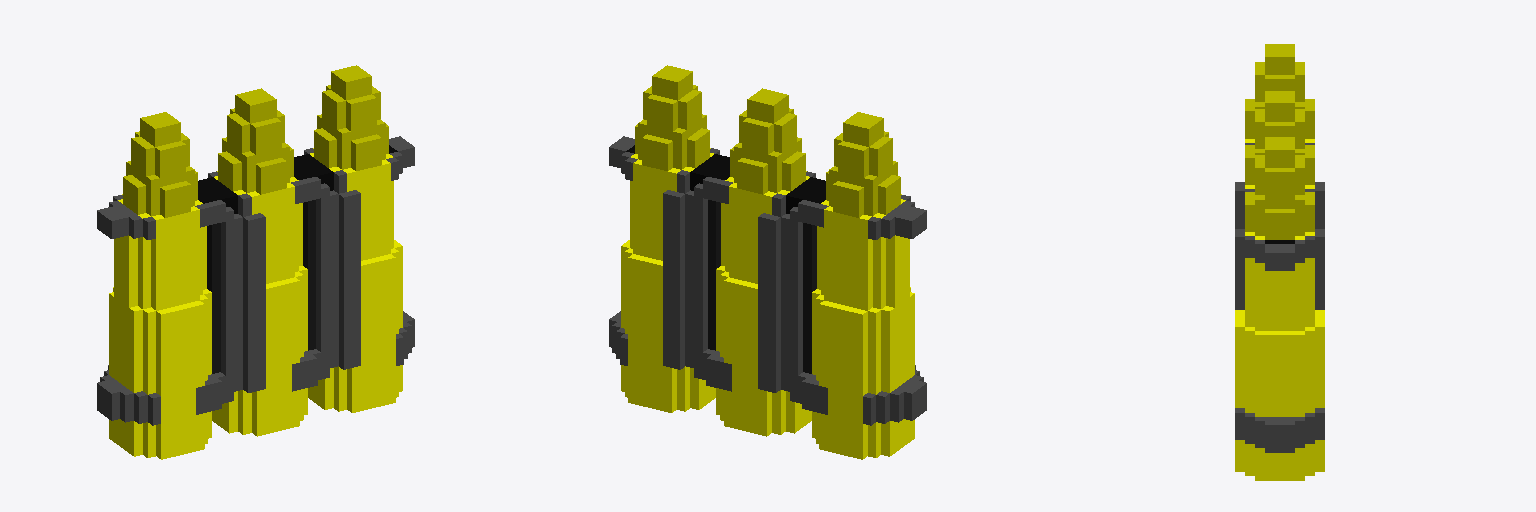
3 renders of one model, left to right at view 1: azimuth 30°, elevation 25°; view 2: azimuth 150°, elevation 25°; view 3: azimuth 270°, elevation 25°, orthographic.
Parts seen in each view (by area): view 1: object 1; view 2: object 1; view 3: object 1.
Part boxes in pixels (x1,y1,x2,y2): object 1: (97,65,414,459); object 1: (609,65,926,459); object 1: (1235,44,1324,480).
Bounding box in the file's own units: 3.5 × 3.5 × 0.9.
1 materials, 1 textured.